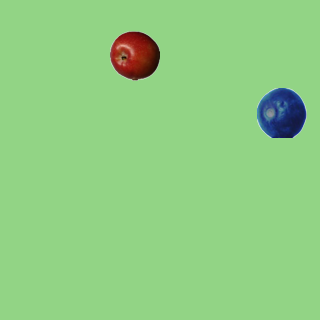Apple Braeburn: (109, 30, 159, 80)
Huckleberry: (256, 87, 306, 137)
